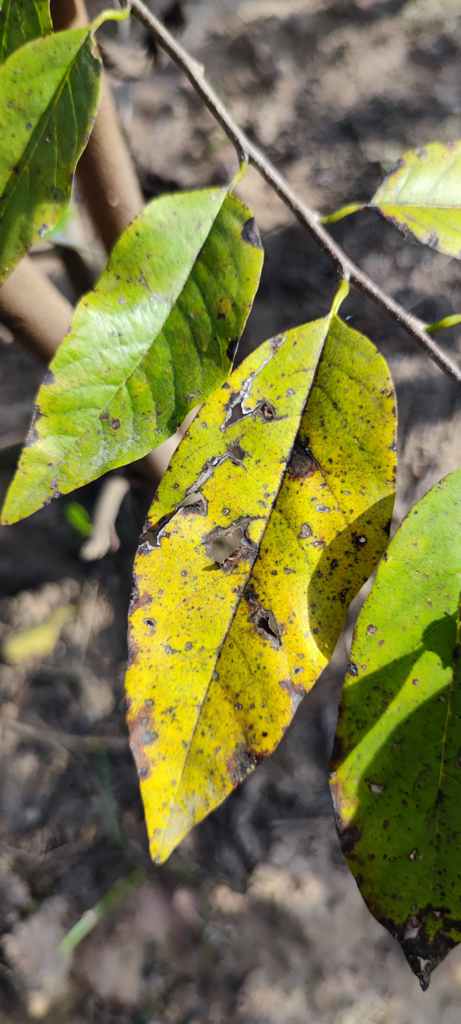Pepper yellow leaf: (123, 312, 396, 875), (22, 179, 262, 530), (362, 123, 456, 260)
